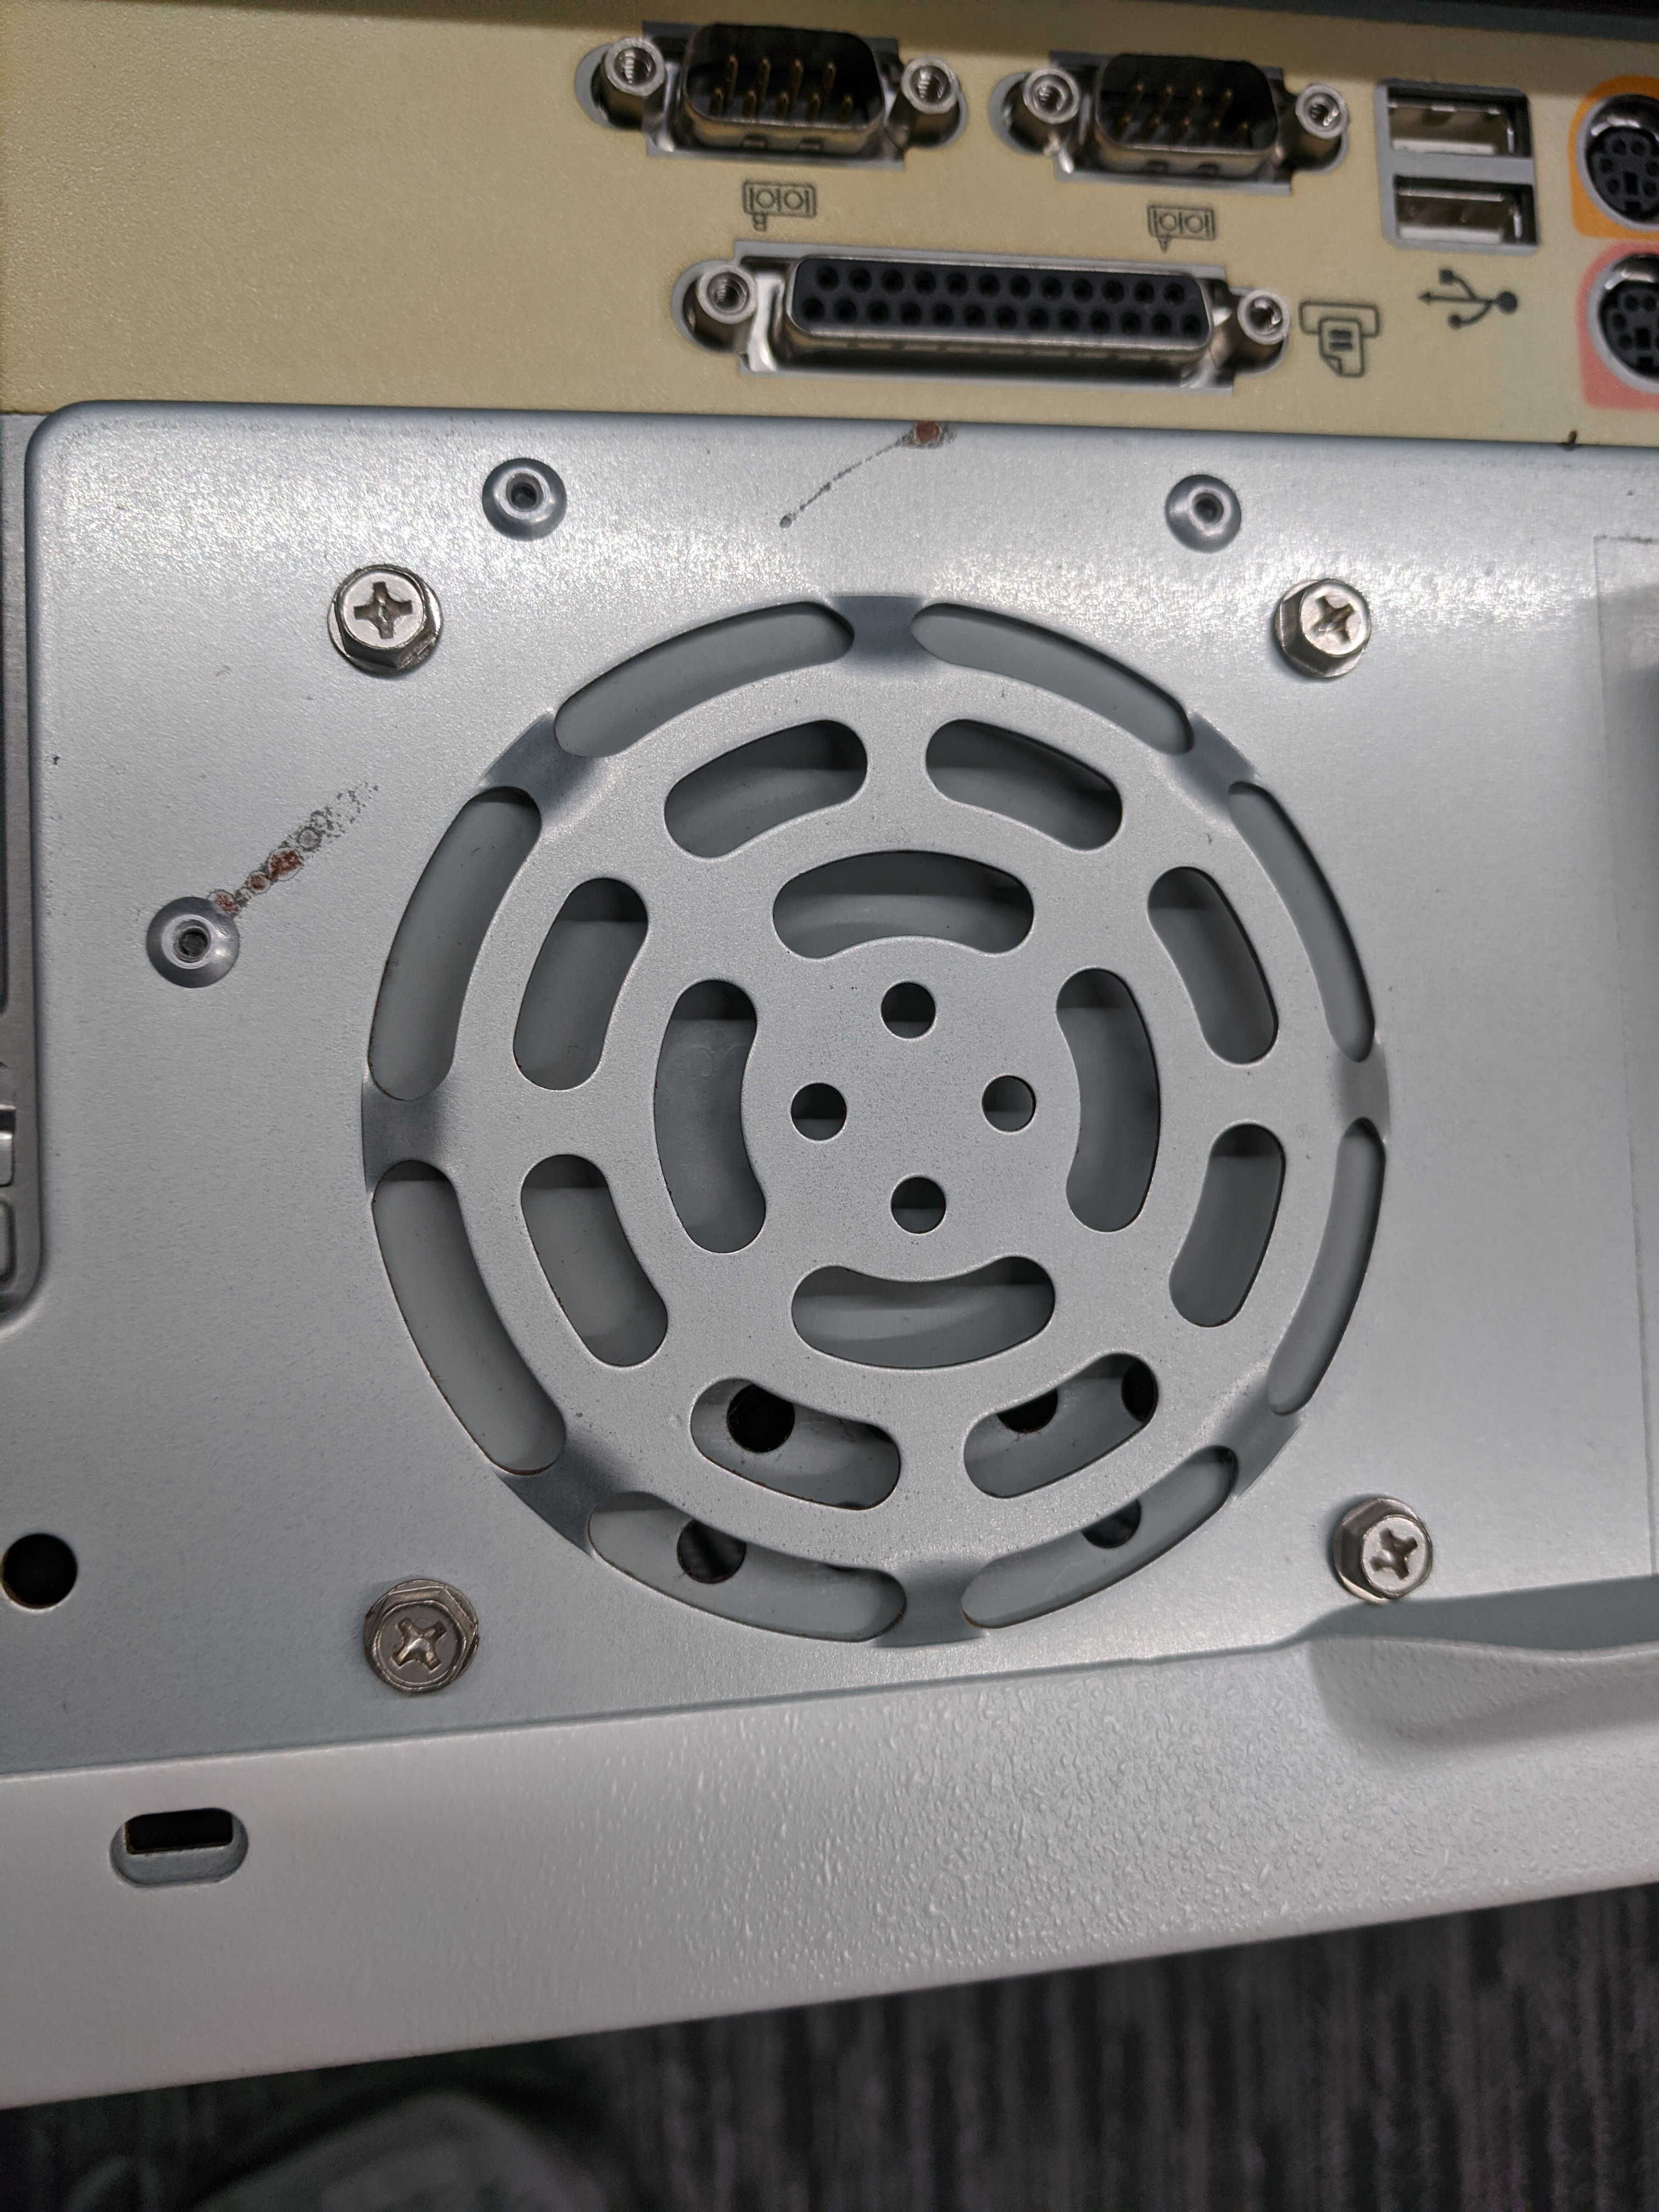cross_recessed_screw: (331, 549, 430, 657), (361, 1581, 460, 1688), (1345, 1491, 1436, 1597), (1288, 573, 1373, 664)
